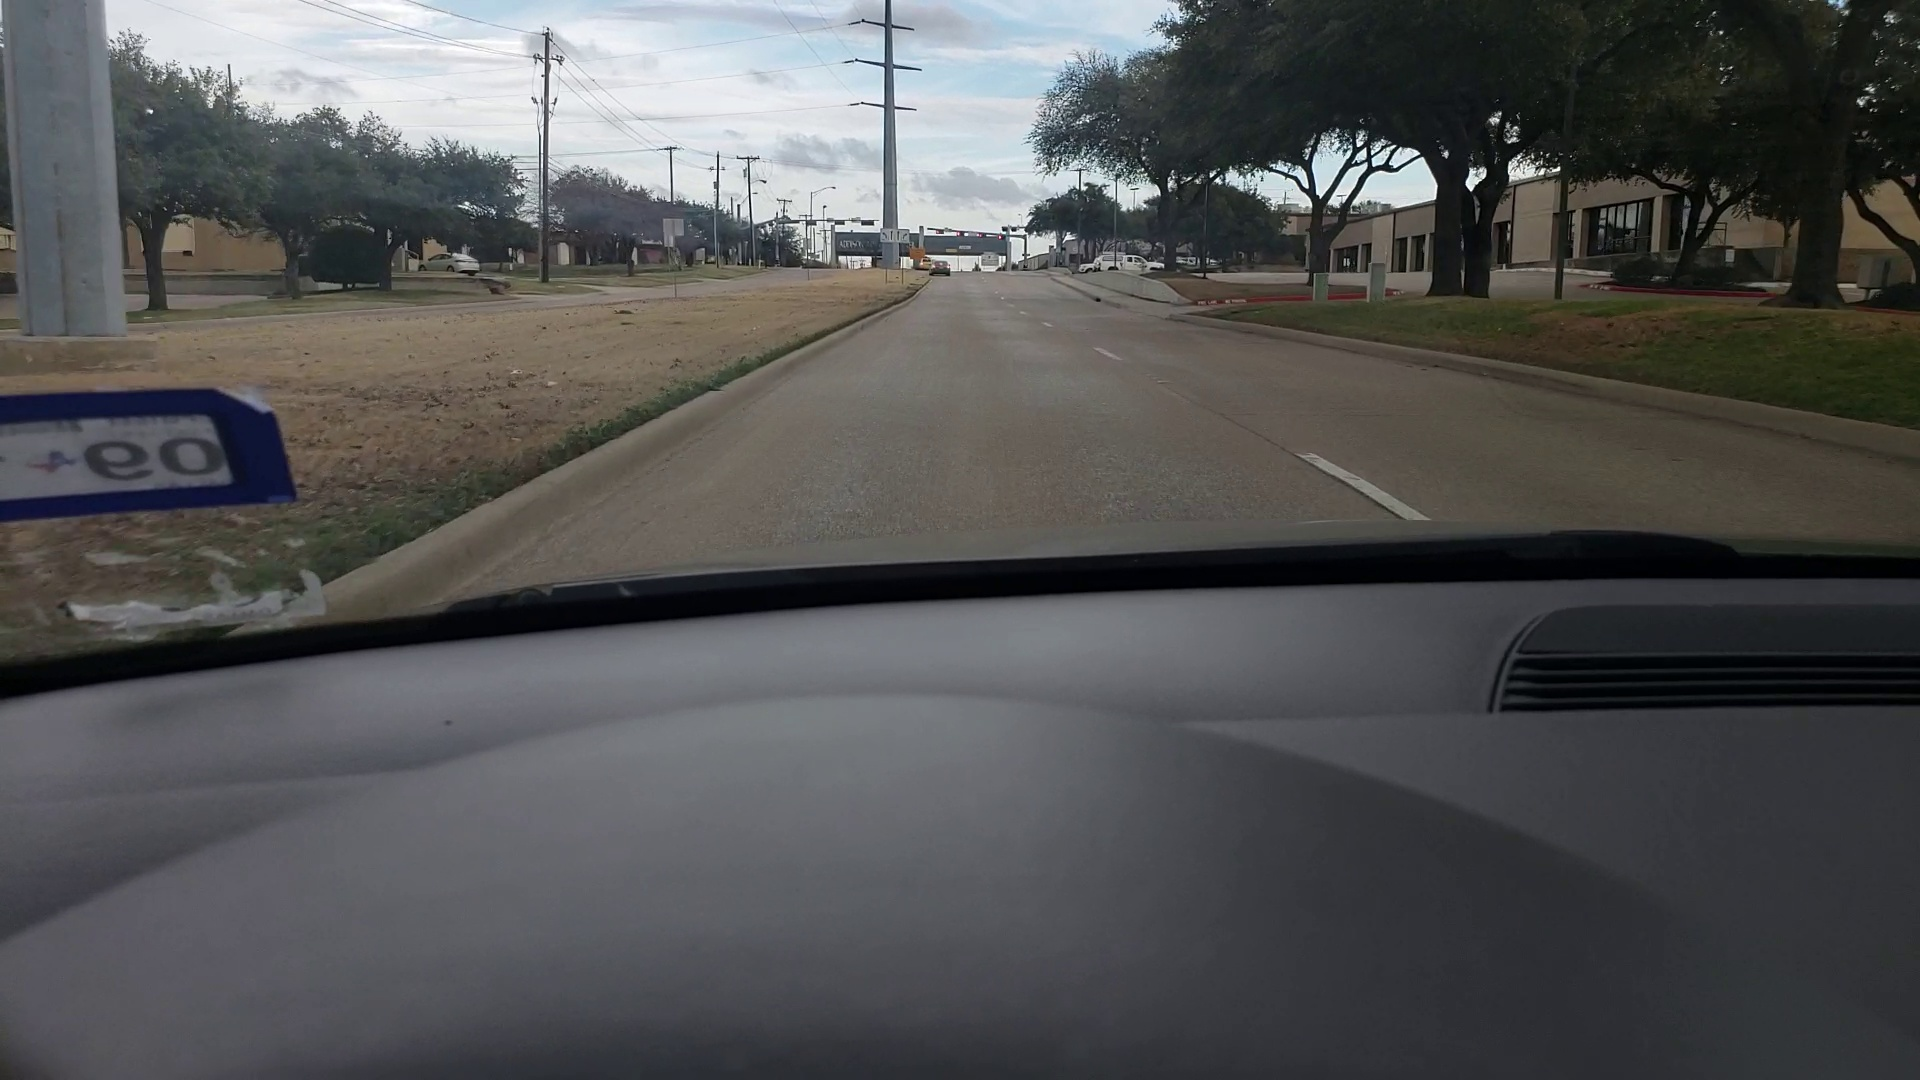car: (419, 248, 477, 277), (1076, 256, 1098, 276), (928, 260, 949, 276), (916, 258, 930, 269)
traffic light: (1098, 255, 1168, 274), (977, 232, 988, 239), (956, 231, 965, 237), (997, 233, 1005, 240), (936, 228, 944, 233)
